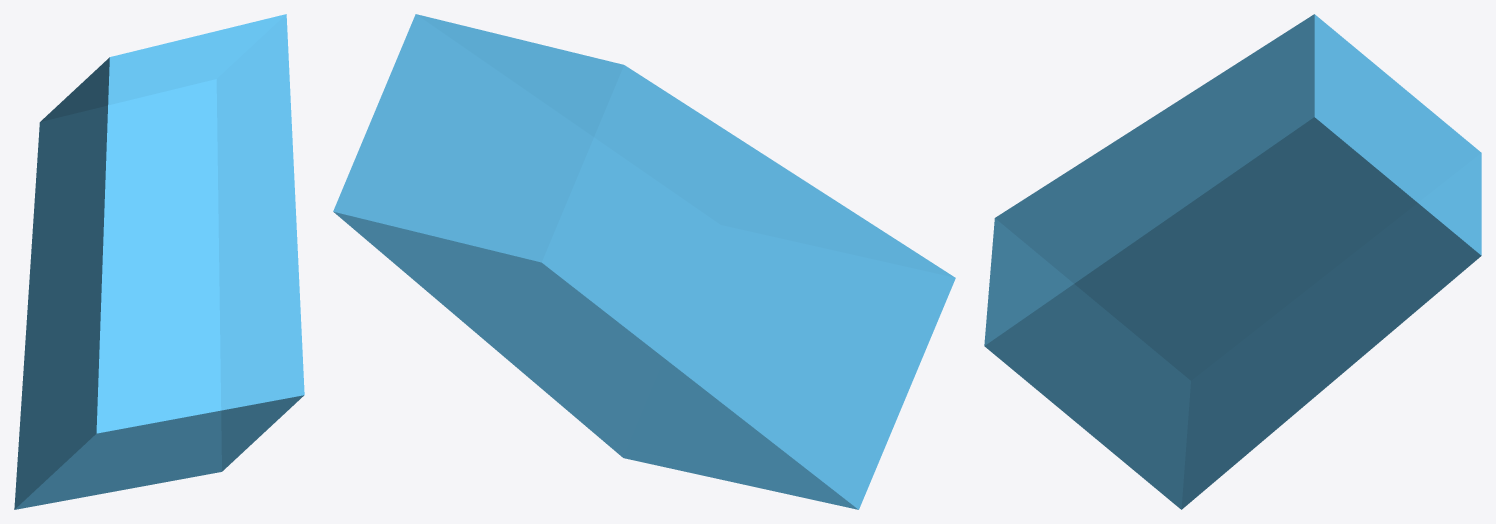
The model's file is Event_421556567_HBrechit_3.fbx.
The picture shows the model from 3 angles, left to right: view 1: azimuth 30°, elevation 25°; view 2: azimuth 150°, elevation 25°; view 3: azimuth 270°, elevation 25°; orthographic projection. The views are drawn at different scales.
Parts seen in each view (by area): view 1: Model; view 2: Model; view 3: Model.
Boxes of the visible parts, x1,y1,x2,y2 form: Model: [14, 14, 304, 509]; Model: [333, 14, 955, 509]; Model: [984, 14, 1481, 509].
Size of the model in its own units: 0.7913 by 0.905 by 0.8811.
